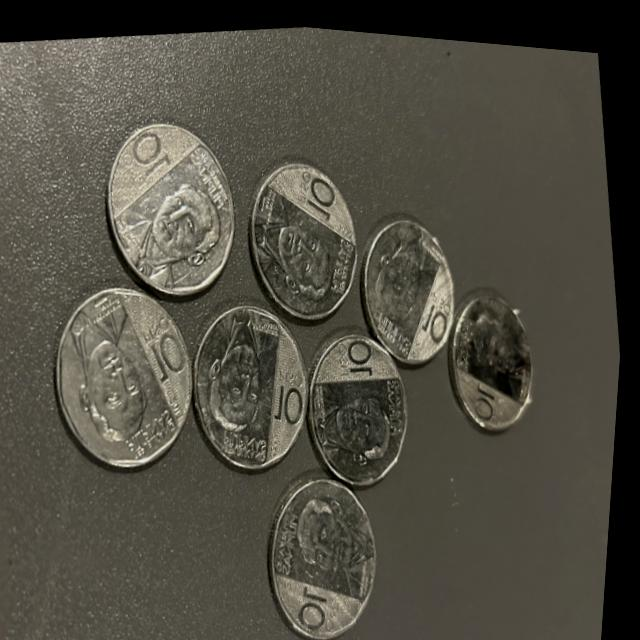10_New_Front: (57, 285, 195, 459), (247, 157, 376, 318), (108, 111, 236, 273), (344, 207, 460, 364), (200, 306, 313, 444), (313, 306, 411, 457), (448, 282, 545, 415), (285, 492, 374, 635)
